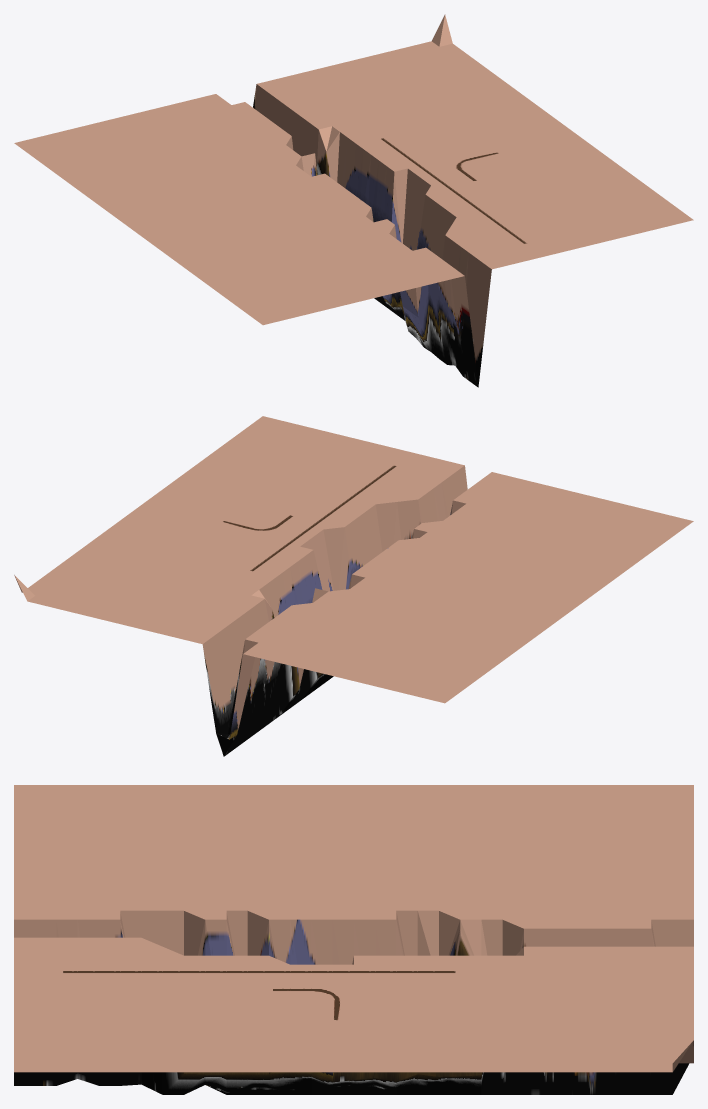
File: Desert.glb
The picture shows the model from 3 angles, top to bottom: view 1: azimuth 30°, elevation 25°; view 2: azimuth 150°, elevation 25°; view 3: azimuth 270°, elevation 25°; orthographic projection. The views are drawn at different scales.
Parts seen in each view (by area): view 1: Desert; view 2: Desert; view 3: Desert.
Boxes of the visible parts, x1,y1,x2,y2 form: Desert: (14,14,693,387); Desert: (14,416,693,756); Desert: (14,785,693,1094).
Bounding box in the file's own units: 775 × 238 × 775.
1 material, 1 textured.
